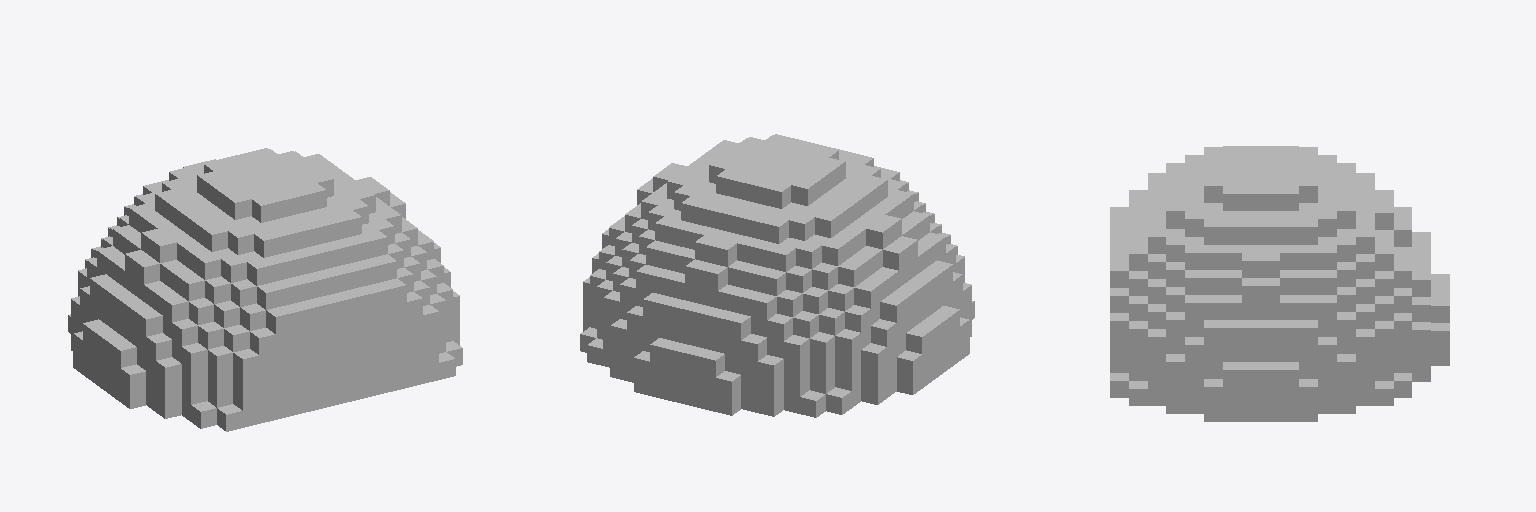
The model's file is slime.obj.
The picture shows the model from 3 angles: view 1: azimuth 30°, elevation 25°; view 2: azimuth 150°, elevation 25°; view 3: azimuth 270°, elevation 25°; orthographic projection.
Parts seen in each view (by area): view 1: object 1; view 2: object 1; view 3: object 1.
Boxes of the visible parts, x1=… form: object 1: x1=68, y1=148, x2=462, y2=431; object 1: x1=580, y1=134, x2=974, y2=417; object 1: x1=1110, y1=146, x2=1449, y2=421.
Size of the model in its own units: 2 by 1 by 1.8.